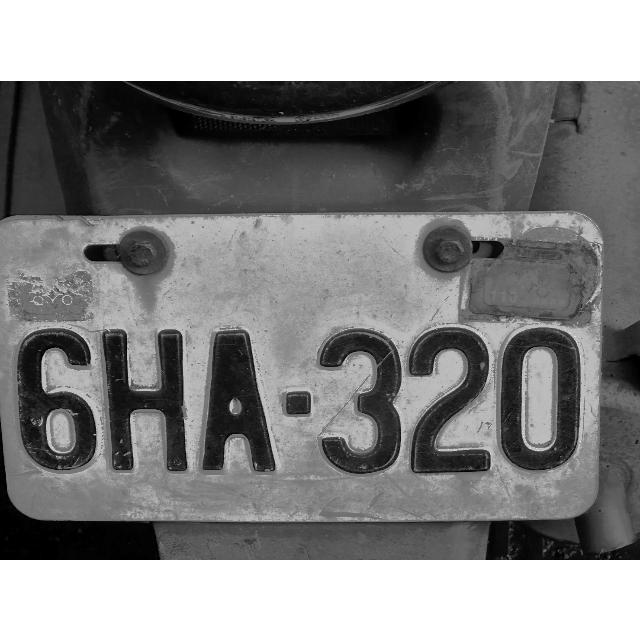-: (282, 384, 318, 426)
0: (494, 323, 588, 477)
2: (406, 324, 494, 478)
3: (314, 324, 406, 484)
6: (10, 324, 100, 478)
A: (199, 325, 281, 477)
H: (97, 322, 197, 478)
